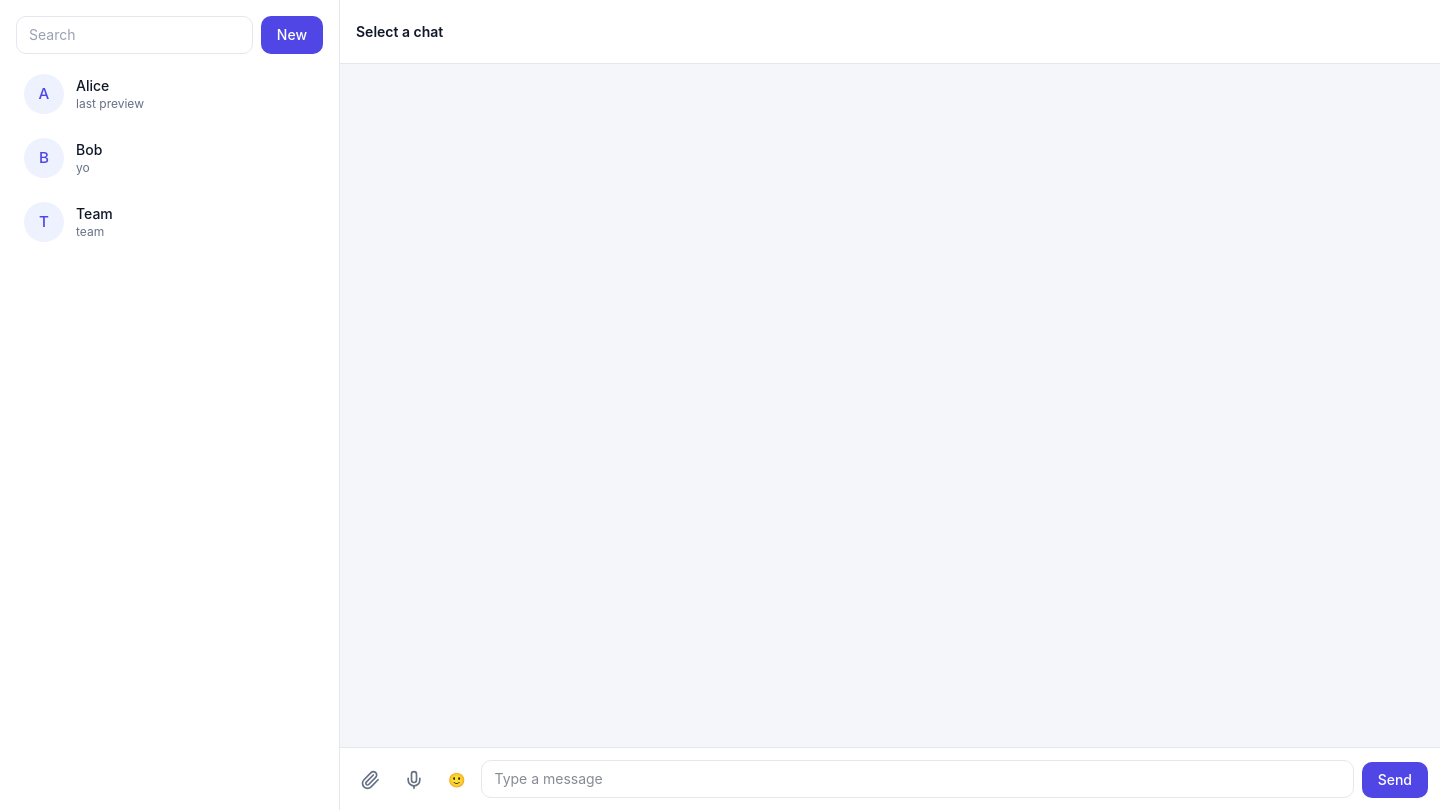
Test case: message loading and composer › BUG-095 / CHAT-021: a superseded history response never replaces the active conversation
The width and height of the screenshot is (1440, 810).
Click the text "Bob": click(89, 150) [76, 141, 102, 158]
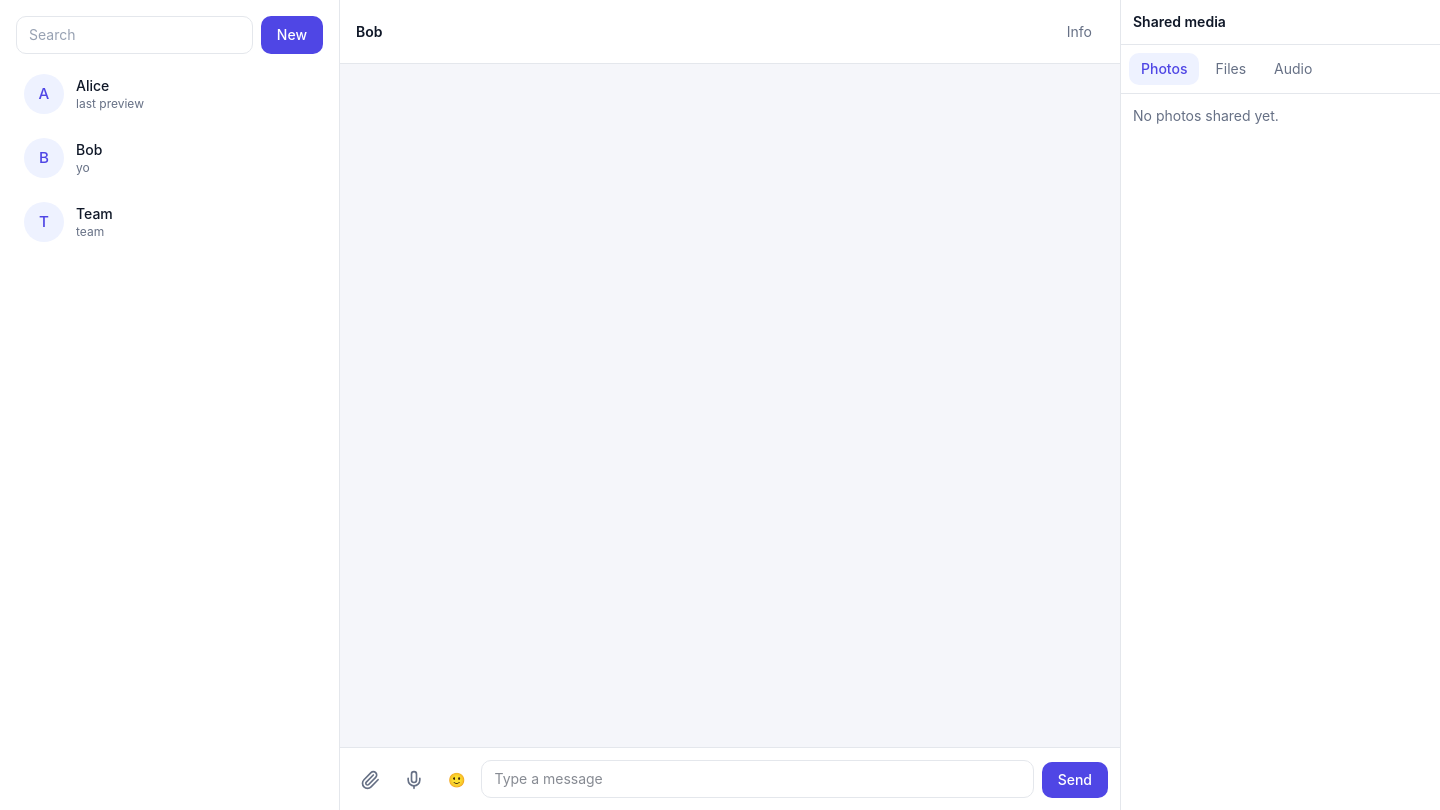
Click the text "Alice": click(93, 86) [76, 77, 109, 94]
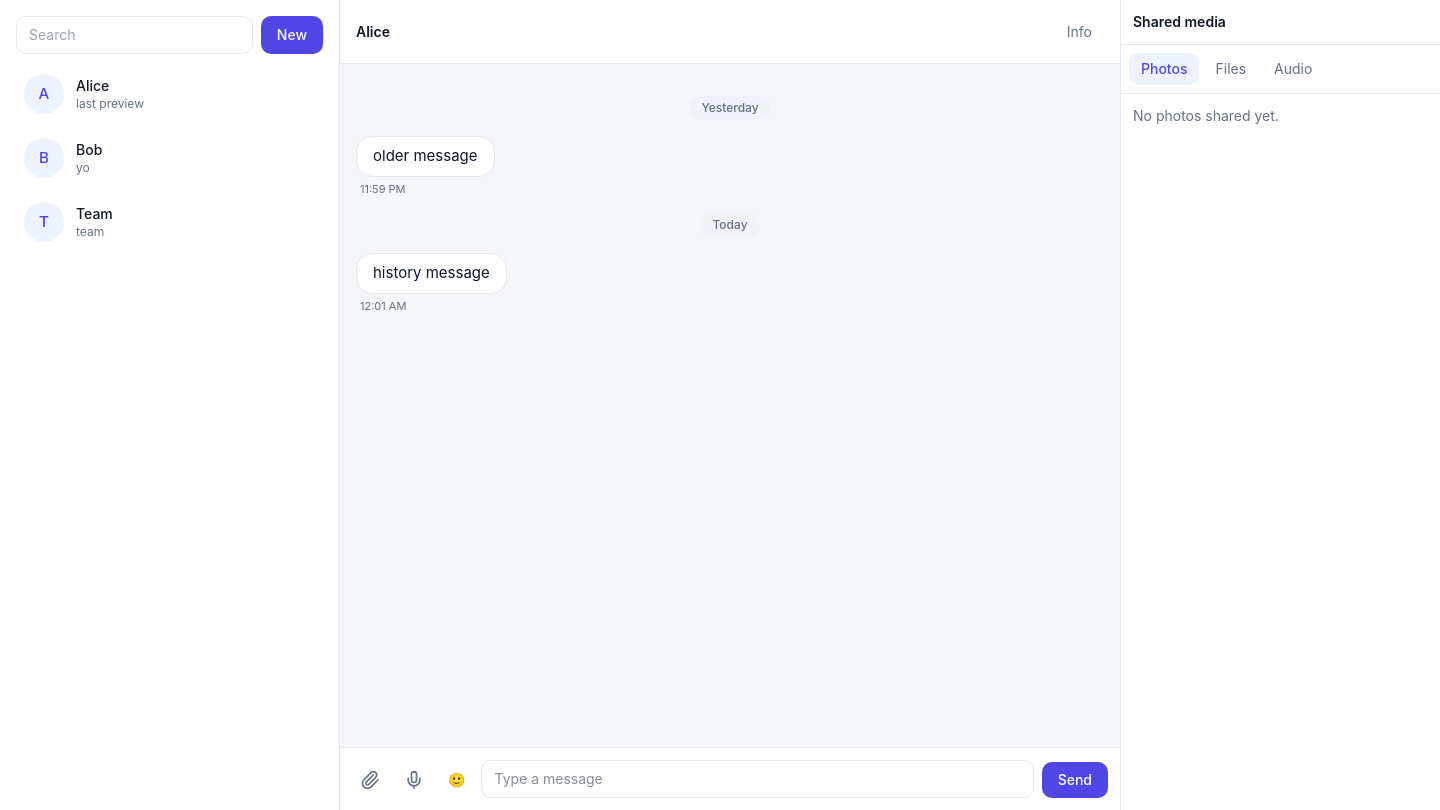
expect the text "history message" is shown: met, box [365, 262, 498, 284]
